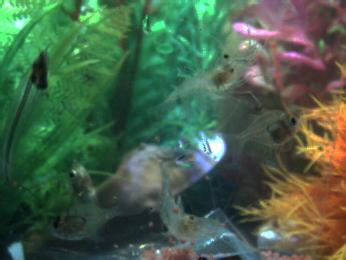X-ray fish: (224, 108, 303, 162), (65, 157, 108, 251), (44, 200, 125, 242)
glassfish: (1, 47, 52, 187)
siberian prawn: (149, 32, 264, 115), (153, 160, 221, 242)
